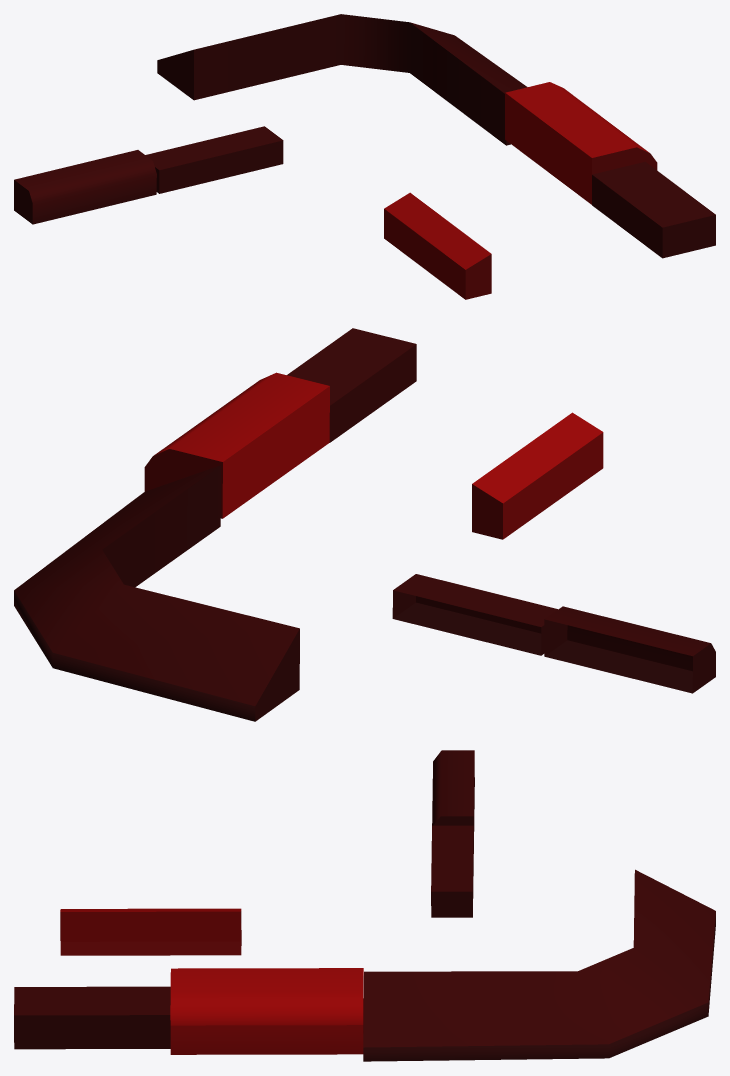
Rendered from color.012.fbx.
3 views of the same model, one above another, from view 1: azimuth 30°, elevation 25°; view 2: azimuth 150°, elevation 25°; view 3: azimuth 270°, elevation 25° (orthographic). The views are drawn at different scales.
Visible parts, largest first — view 1: color.012; view 2: color.012; view 3: color.012.
Boxes of the visible parts, box(x1,y1,x2,y2) form: color.012: box(14, 14, 715, 299); color.012: box(14, 328, 715, 721); color.012: box(14, 750, 715, 1061).
Size of the model in its own units: 2282 by 2083 by 247.
